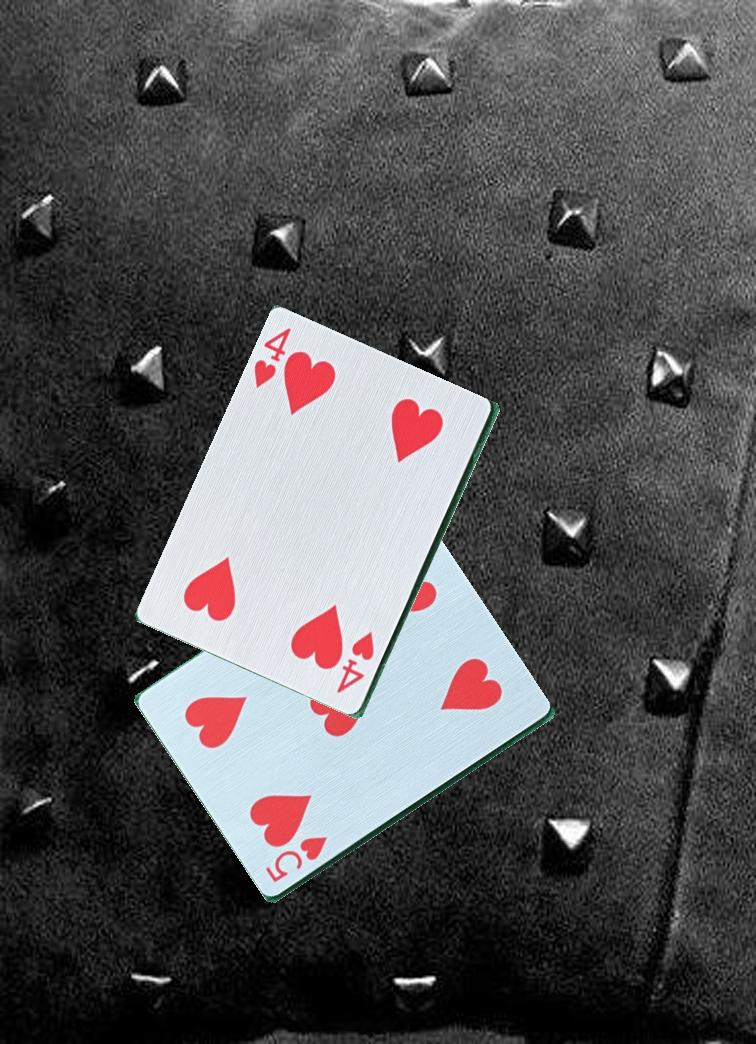4h: (249, 322, 304, 403), (333, 628, 378, 697)
5h: (261, 833, 331, 886)
